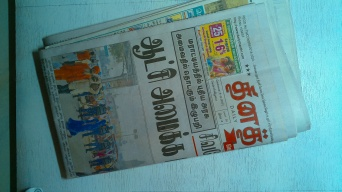p: (35, 1, 309, 178)
